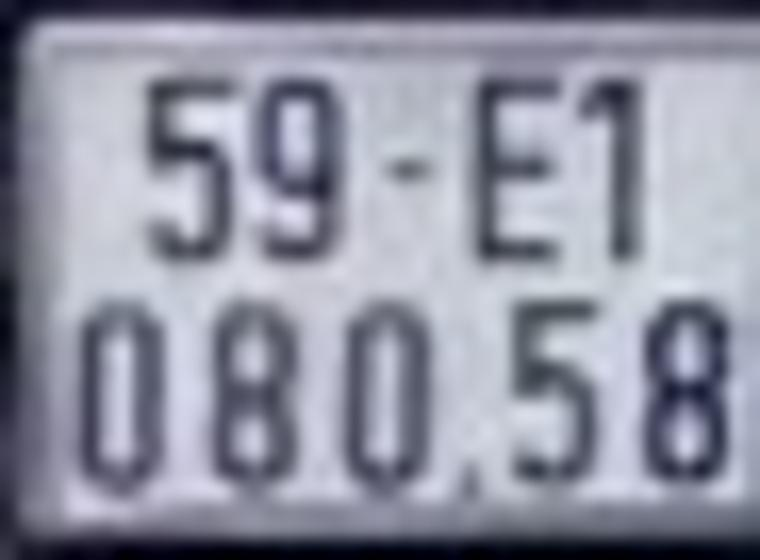-: (387, 157, 433, 182)
.: (459, 469, 479, 497)
0: (342, 297, 433, 494), (81, 299, 165, 500)
1: (579, 72, 641, 265)
5: (143, 72, 233, 267), (508, 299, 595, 488)
8: (644, 295, 733, 484), (214, 295, 299, 489)
9: (251, 75, 347, 264)
E: (472, 75, 559, 261)
